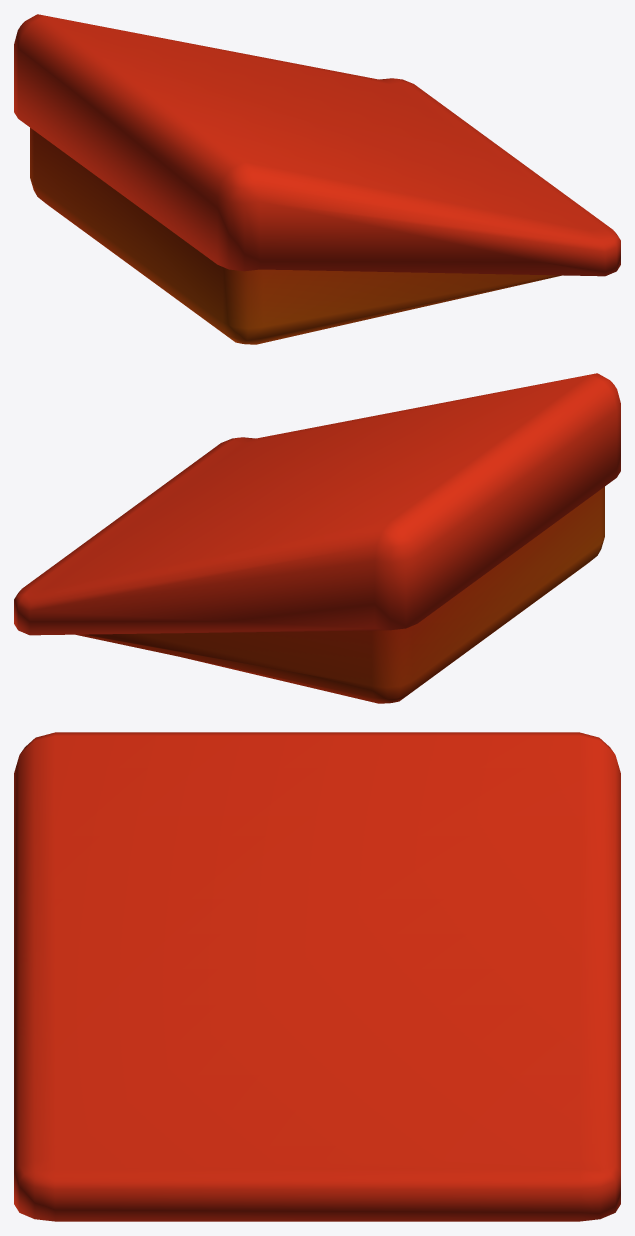
File: trap_platformstairred.glb
The picture shows the model from 3 angles, top to bottom: view 1: azimuth 30°, elevation 25°; view 2: azimuth 150°, elevation 25°; view 3: azimuth 270°, elevation 25°; orthographic projection. The views are drawn at different scales.
Visible parts, largest first — view 1: Cube.019_visual; view 2: Cube.019_visual; view 3: Cube.019_visual.
Part boxes in pixels (x1,y1,x2,y2): Cube.019_visual: (14, 14, 620, 344); Cube.019_visual: (14, 373, 620, 703); Cube.019_visual: (14, 732, 620, 1221).
Size of what is drawn, in the model's own units: 1.42 by 0.634 by 1.42.
Materials: 1 (1 with a texture image).
